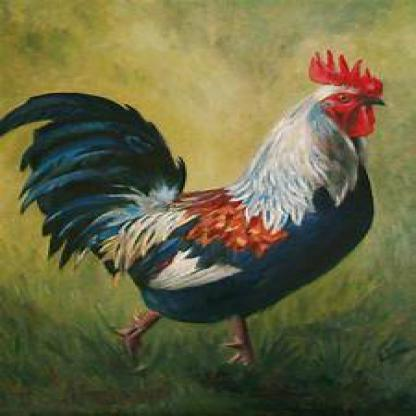chicken: (6, 48, 390, 369)
